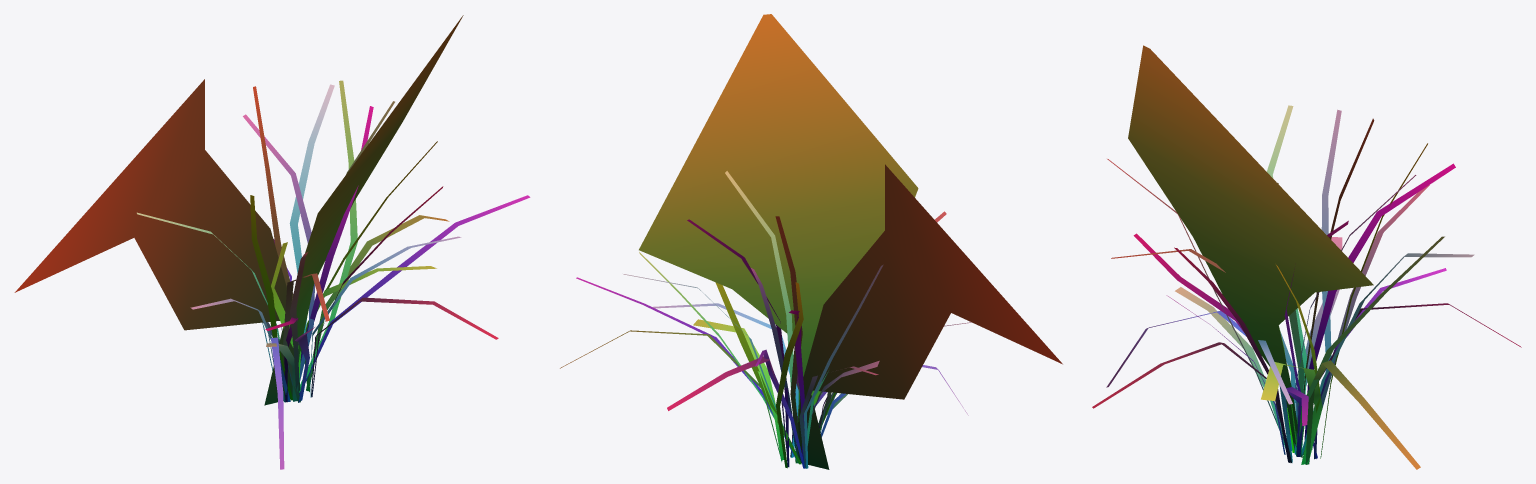
File: Wild_Grass_sjliZ_Mid_sjliZ_VarD_LOD0.fbx
3 views of the same model, side by side, from view 1: azimuth 30°, elevation 25°; view 2: azimuth 150°, elevation 25°; view 3: azimuth 270°, elevation 25° (orthographic). The views are drawn at different scales.
Parts seen in each view (by area): view 1: _71af_VarD_LOD1; view 2: _71af_VarD_LOD1; view 3: _71af_VarD_LOD1.
Boxes of the visible parts, left/top/right/bottom form: _71af_VarD_LOD1: left=14, top=15, right=530, bottom=469; _71af_VarD_LOD1: left=560, top=14, right=1062, bottom=469; _71af_VarD_LOD1: left=1092, top=45, right=1521, bottom=469.
Size of the model in its own units: 86.14 by 64.53 by 53.95.
